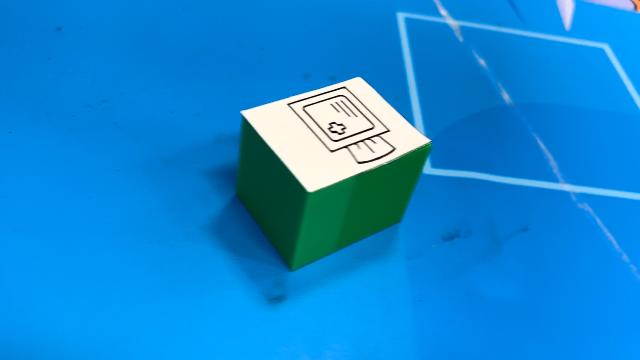napkin: (234, 74, 434, 272)
